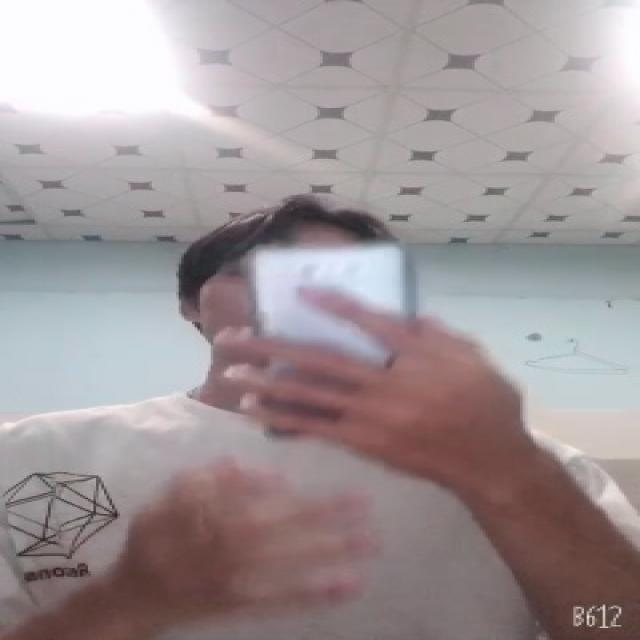Phone: (248, 238, 412, 359)
